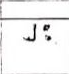anusvara: (43, 26, 49, 32)
